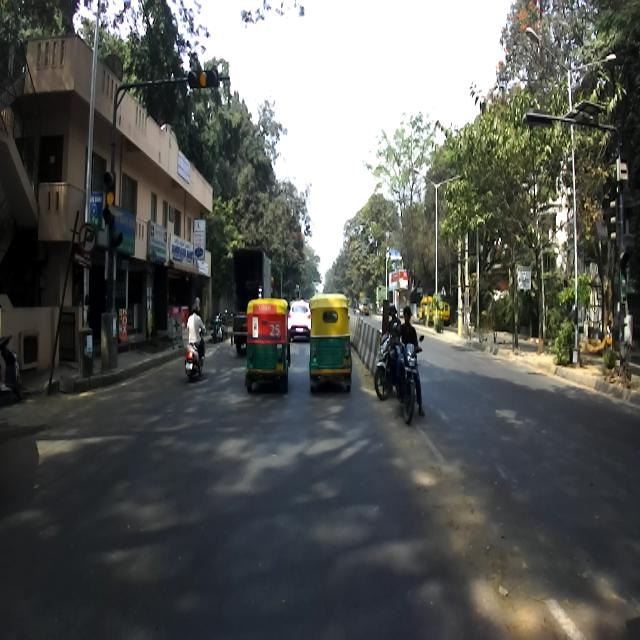auto ahead at: (306, 288, 354, 394), (245, 298, 289, 392)
motorcycle ahead at: (398, 342, 423, 423)
